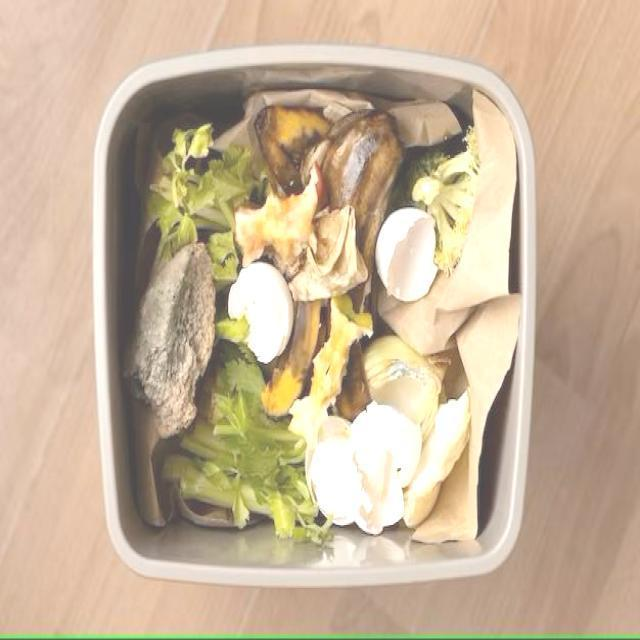Garbage: (126, 90, 515, 544)
